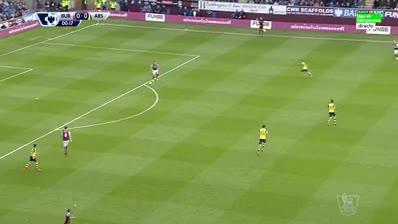futbol: (147, 80, 154, 86)
player: (254, 122, 272, 156), (24, 141, 42, 174), (61, 124, 74, 159), (326, 97, 340, 128), (61, 202, 80, 223), (298, 60, 314, 81), (149, 59, 162, 81), (391, 38, 397, 63)
